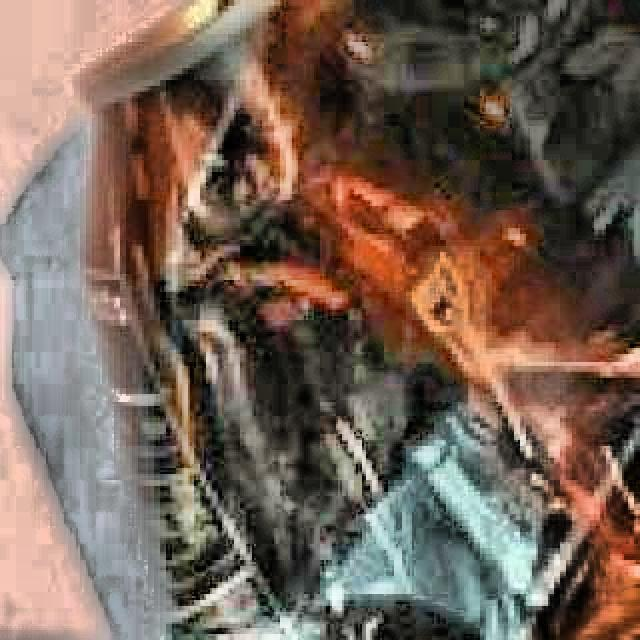metal: (68, 0, 640, 640)
